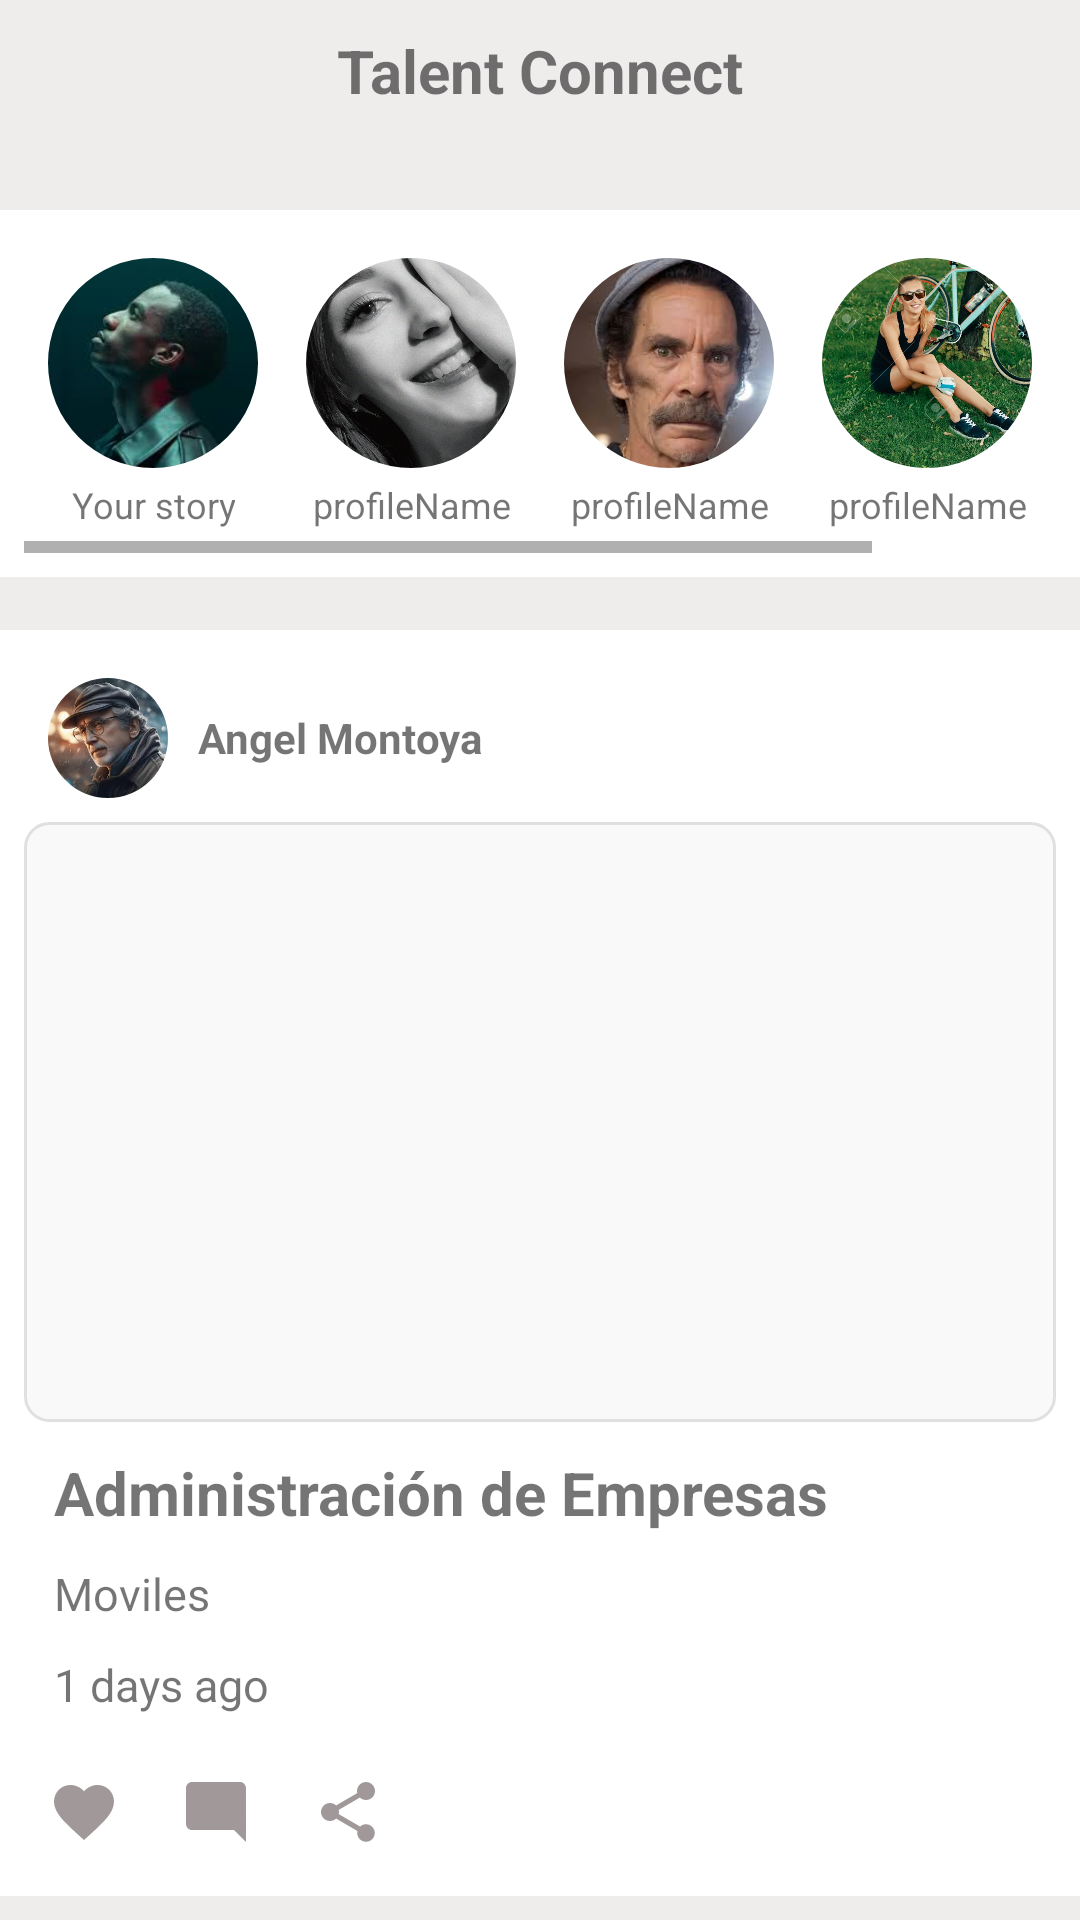

Locate icon controls on the screen. Image size 1080 x 1920, boxes as (x1, y1, x2, y2).
favorite: (54, 1785, 114, 1840)
mode comment: (186, 1782, 246, 1842)
share: (321, 1782, 375, 1842)
